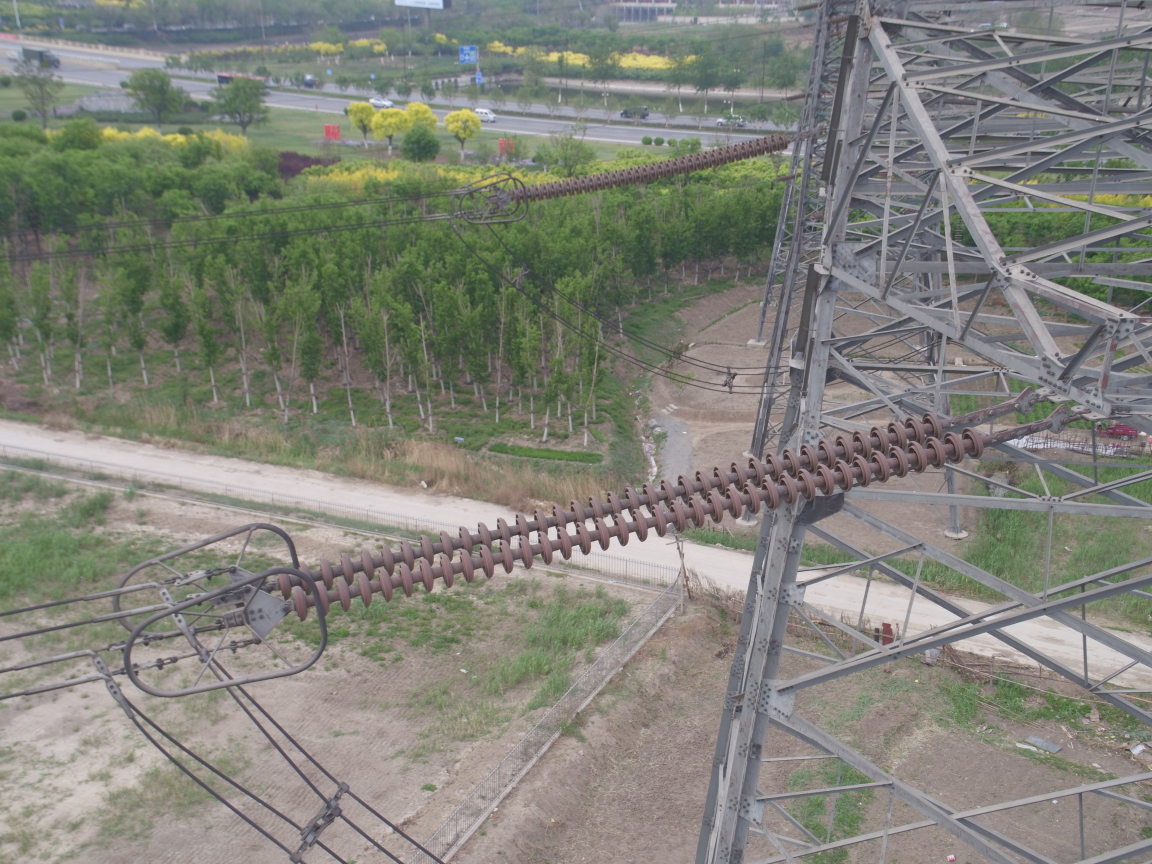insulator: (269, 407, 1013, 625), (511, 131, 808, 208)
